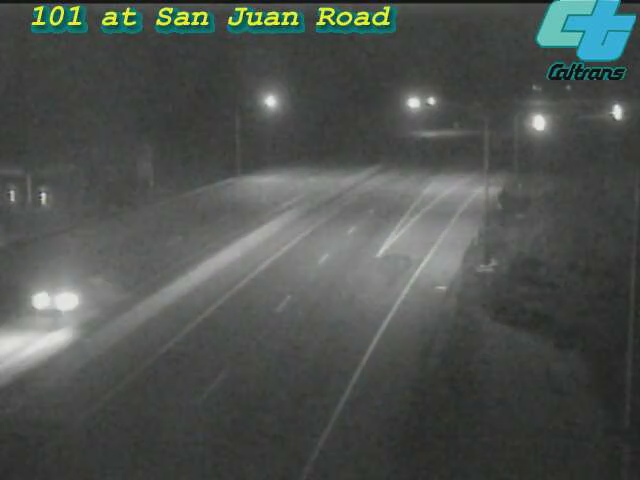vehicle: (14, 262, 94, 342), (513, 98, 563, 148), (588, 87, 638, 137)
